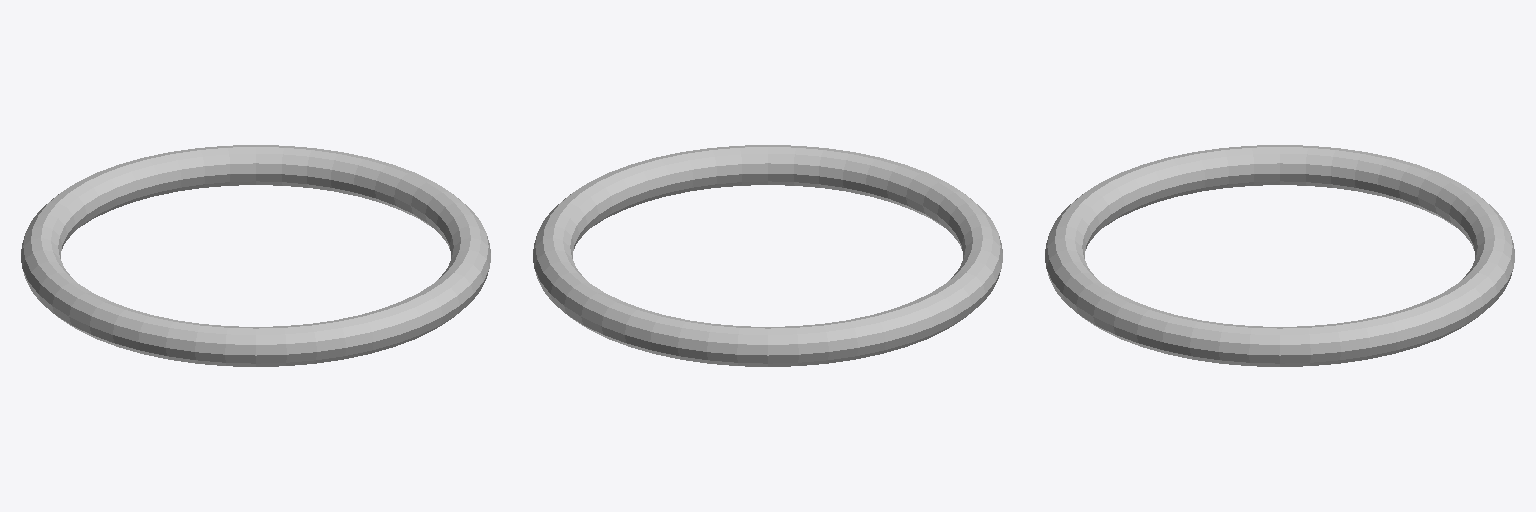
Rendered from Ring.obj.
The picture shows the model from 3 angles: view 1: azimuth 30°, elevation 25°; view 2: azimuth 150°, elevation 25°; view 3: azimuth 270°, elevation 25°; orthographic projection.
Visible parts, largest first — view 1: Torus; view 2: Torus; view 3: Torus.
Part boxes in pixels (x1,y1,x2,y2): Torus: (21,145,490,366); Torus: (533,145,1002,366); Torus: (1045,145,1514,366).
Bounding box in the file's own units: 2.19 × 0.1872 × 2.19.